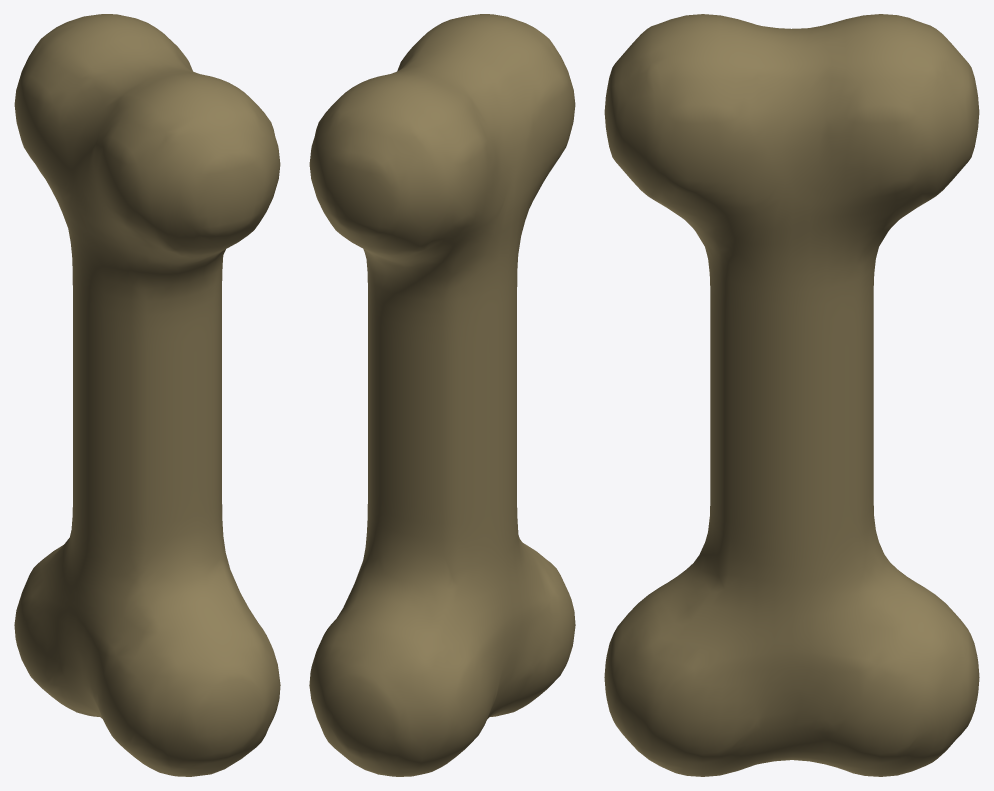
File: bone.obj
The picture shows the model from 3 angles, left to right: view 1: azimuth 30°, elevation 25°; view 2: azimuth 150°, elevation 25°; view 3: azimuth 270°, elevation 25°; orthographic projection. The views are drawn at different scales.
Parts seen in each view (by area): view 1: Mball.005; view 2: Mball.005; view 3: Mball.005.
Part boxes in pixels (x1,y1,x2,y2): Mball.005: [14, 14, 280, 776]; Mball.005: [309, 14, 575, 776]; Mball.005: [604, 14, 979, 776].
Bounding box in the file's own units: 0.4773 × 1.99 × 0.9083.
